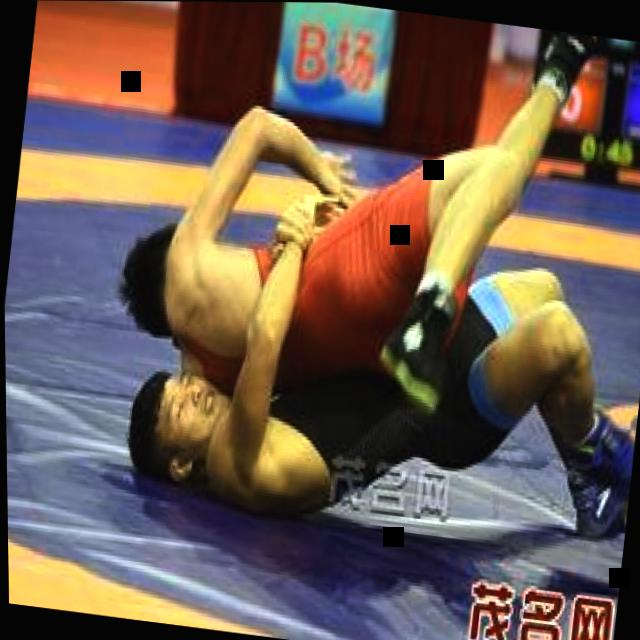Fall-Detected: (100, 1, 640, 546)
